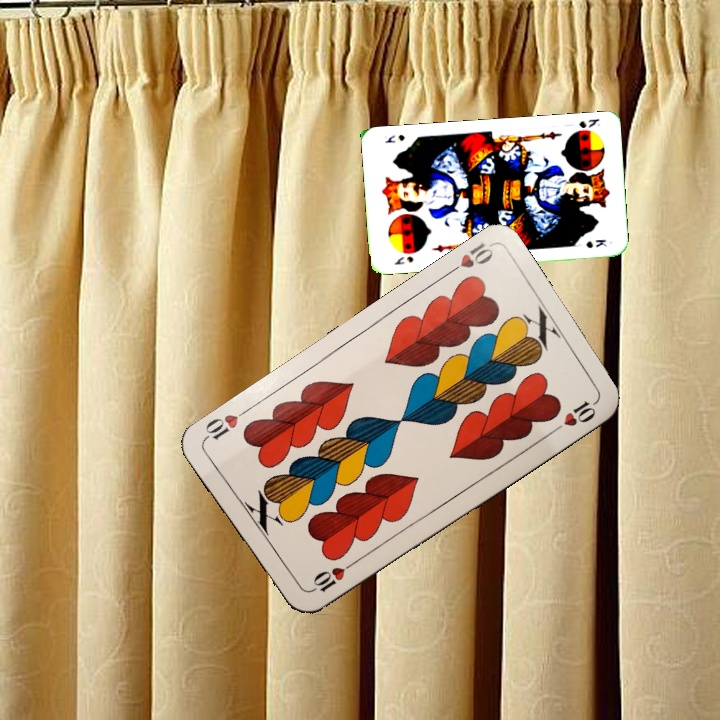H10: (442, 238, 496, 279), (304, 557, 357, 596)
SK: (575, 115, 602, 131), (390, 252, 416, 267)
